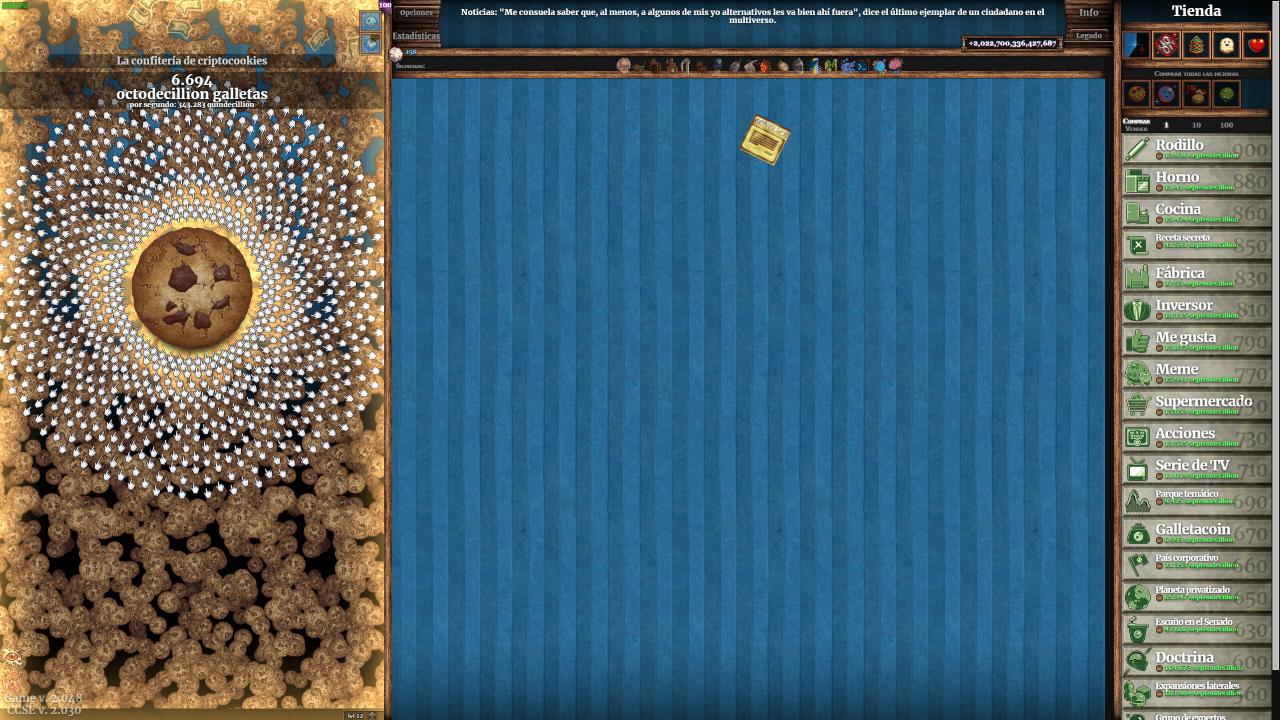GoldenCartridge: (737, 112, 794, 168)
